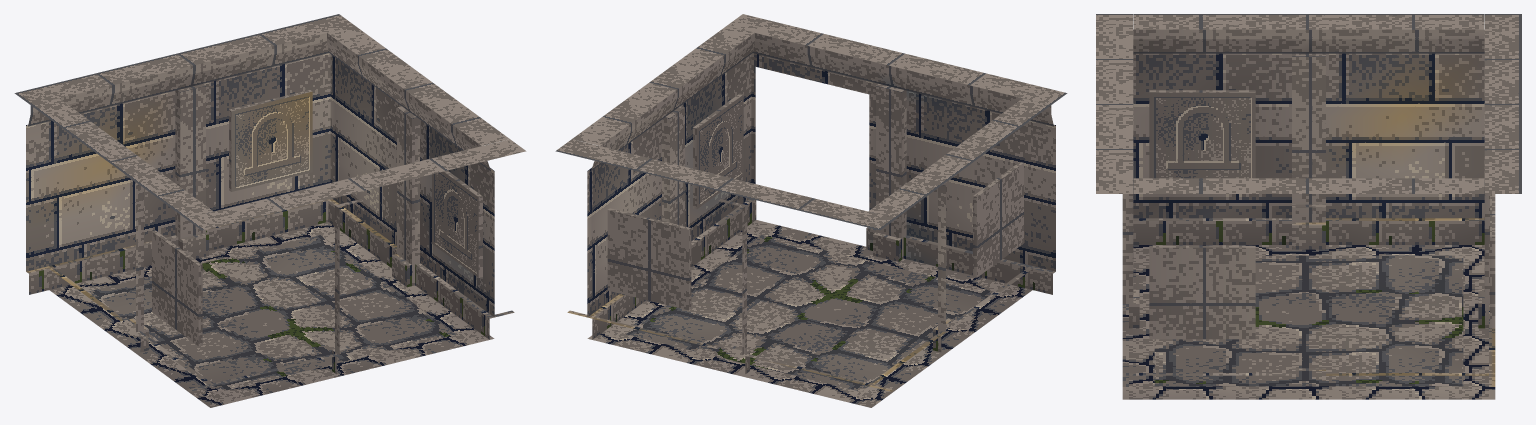
Rendered from dgn.room__shrine.glb.
The picture shows the model from 3 angles, left to right: view 1: azimuth 30°, elevation 25°; view 2: azimuth 150°, elevation 25°; view 3: azimuth 270°, elevation 25°; orthographic projection. The views are drawn at different scales.
Visible parts, largest first — view 1: kit_shell_walls, kit_shell_floor, kit_reliefs; view 2: kit_shell_walls, kit_shell_floor, kit_reliefs; view 3: kit_shell_walls, kit_shell_floor, kit_reliefs.
Part boxes in pixels (x1,y1,x2,y2): kit_shell_walls: (14,14,526,391); kit_shell_floor: (49,222,494,407); kit_reliefs: (152,90,482,346); kit_shell_walls: (555,14,1067,391); kit_shell_floor: (587,220,1032,407); kit_reliefs: (607,93,1023,310); kit_shell_walls: (1096,14,1521,386); kit_shell_floor: (1122,245,1495,399); kit_reliefs: (1149,90,1495,339).
Size of the model in its own units: 8 by 4.5 by 8.
Materials: 6 (6 with a texture image).
